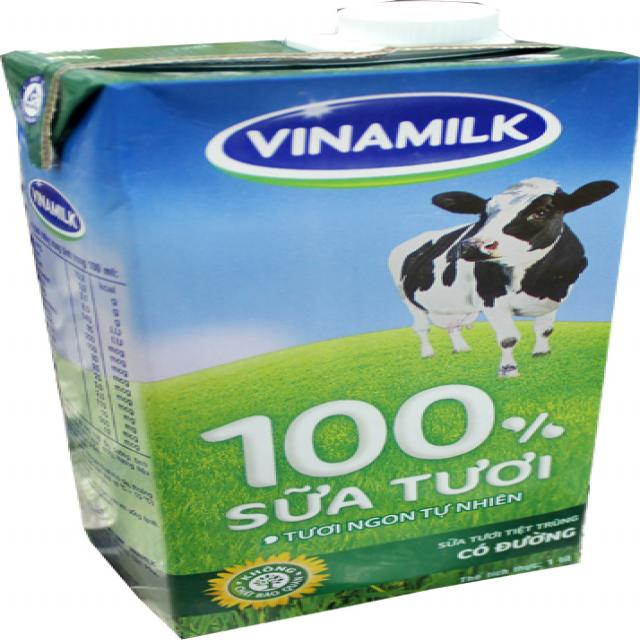non_white_jug: (6, 13, 640, 640)
